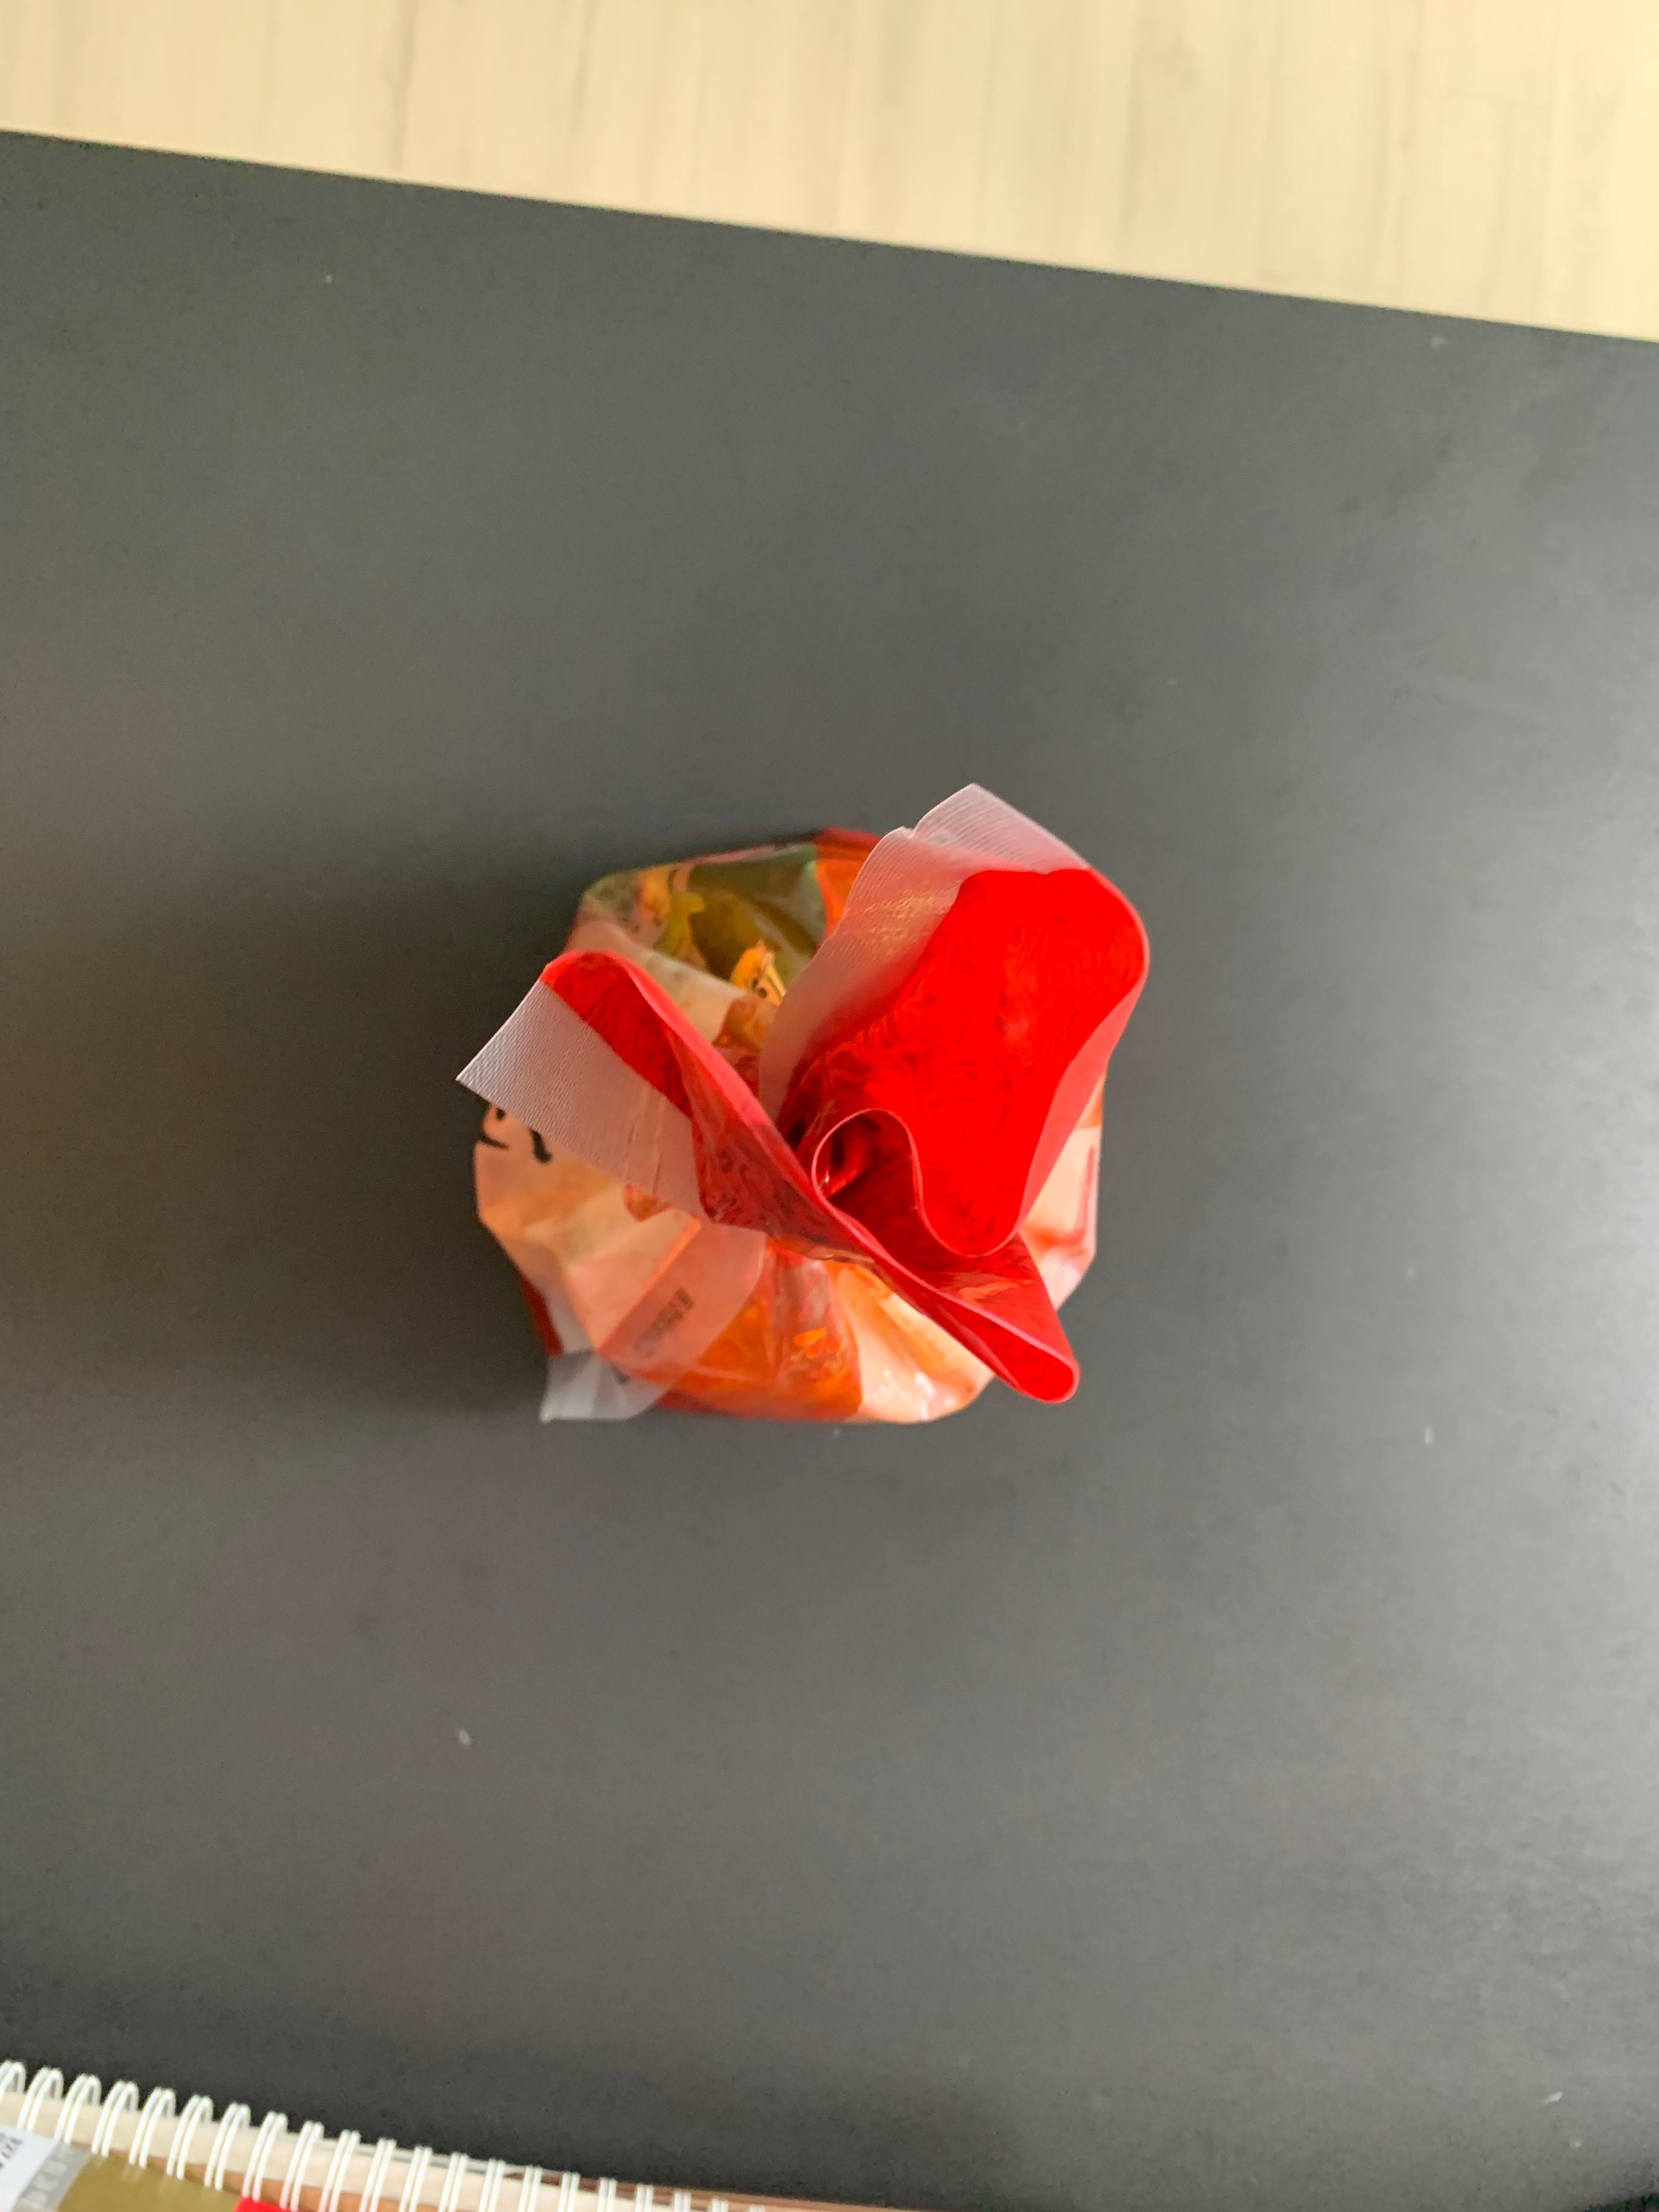kimchi: (476, 829, 1145, 1420)
